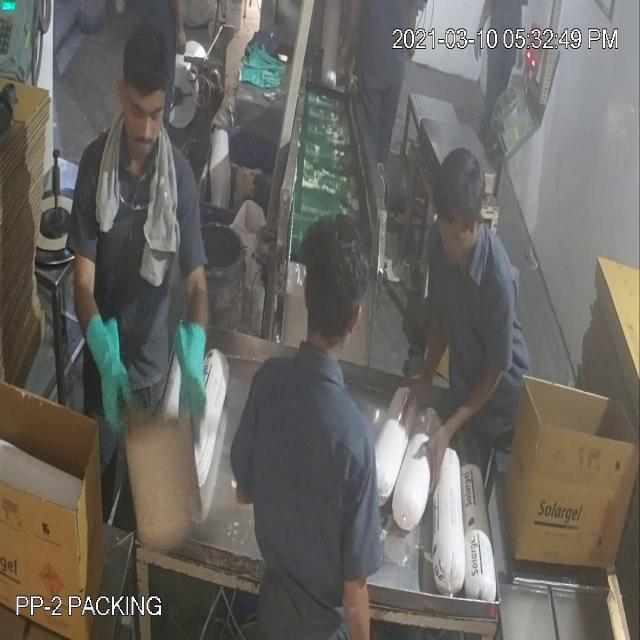Gloves: (26, 41, 463, 420)
